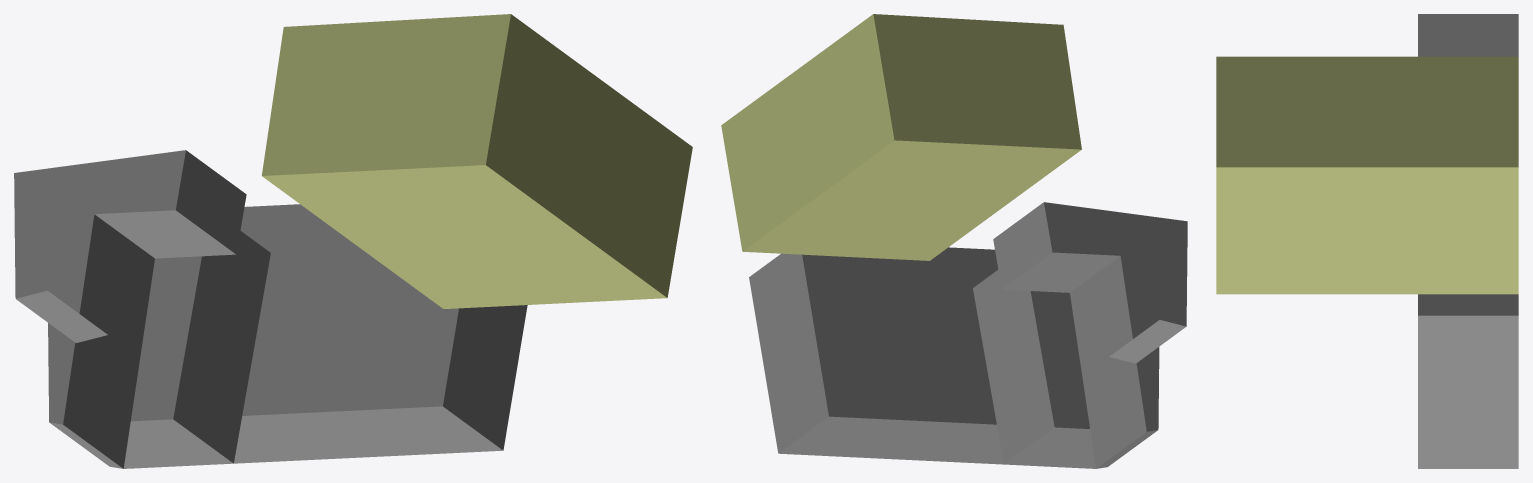
The picture shows the model from 3 angles, left to right: view 1: azimuth 30°, elevation 25°; view 2: azimuth 150°, elevation 25°; view 3: azimuth 270°, elevation 25°; orthographic projection. The views are drawn at different scales.
Parts seen in each view (by area): view 1: 0_1_2_0_3_3_2_0_1_0_1; view 2: 0_1_2_0_3_3_2_0_1_0_1; view 3: 0_1_2_0_3_3_2_0_1_0_1.
Boxes of the visible parts, left/top/right/bottom form: 0_1_2_0_3_3_2_0_1_0_1: left=14, top=14, right=692, bottom=468; 0_1_2_0_3_3_2_0_1_0_1: left=721, top=14, right=1187, bottom=468; 0_1_2_0_3_3_2_0_1_0_1: left=1216, top=14, right=1518, bottom=468.
Size of the model in its own units: 14.2 by 11.42 by 9.
